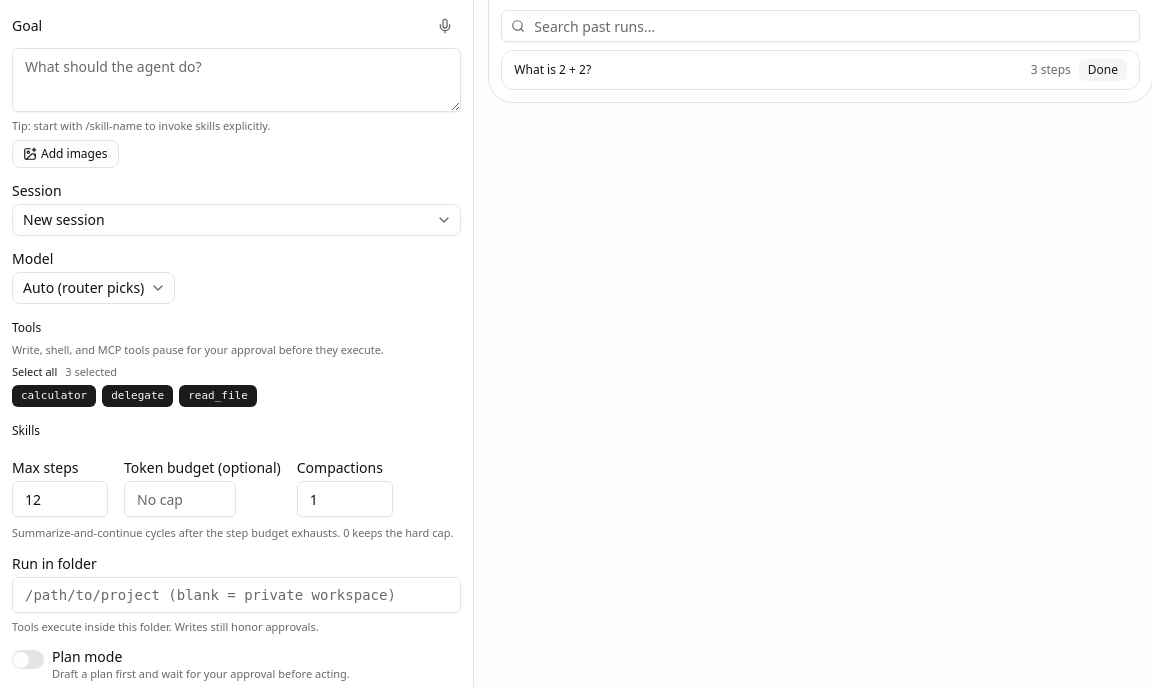
Scenario: opens a PR from the run detail and shows the link
Click the button "What is 2 + 2? 3 steps Done" at (553, 70), box top-left (501, 50), bottom-right (1140, 90)
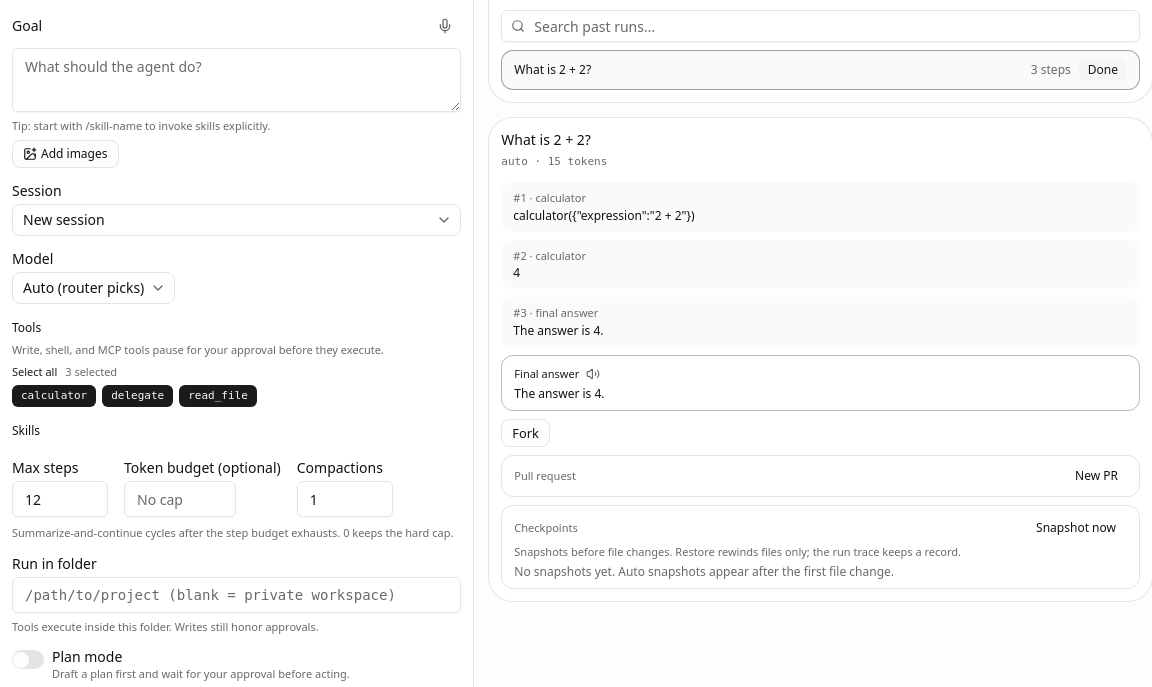
Click the button "New PR" at (1096, 476), box top-left (1066, 464), bottom-right (1127, 488)
(page scrolled)
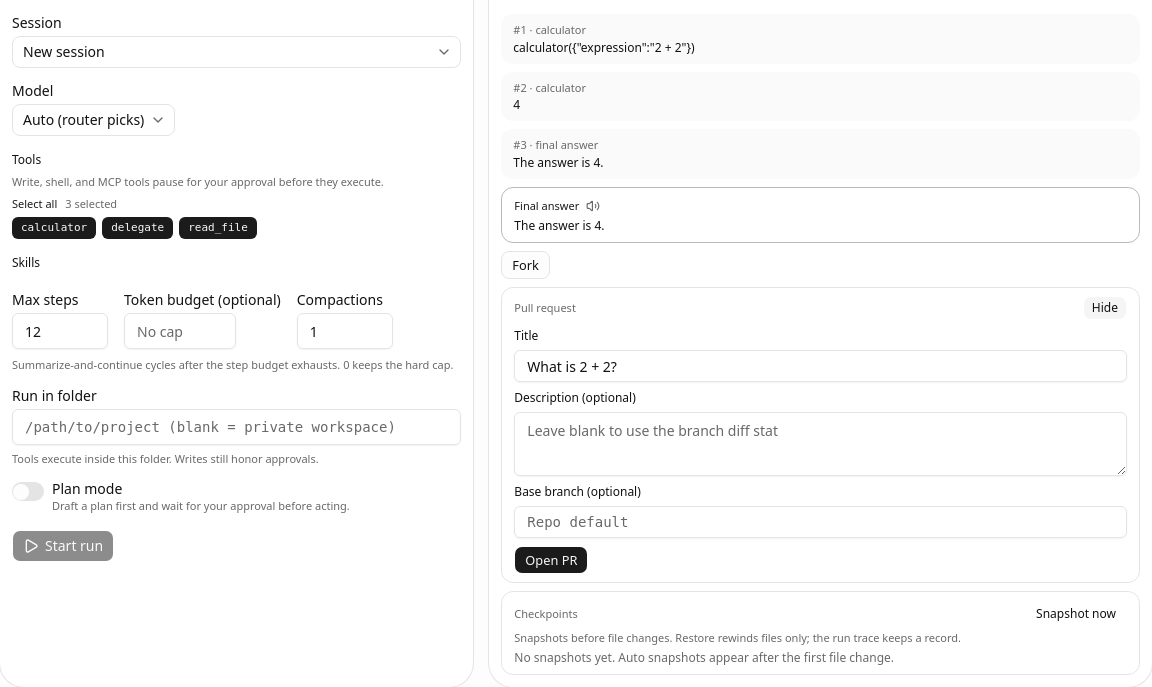
Check: the field with id "run-pr-title" holds "What is 2 + 2?", box top-left (514, 350), bottom-right (1127, 382)
Click the button "Open PR" at (551, 560), box top-left (514, 546), bottom-right (588, 574)
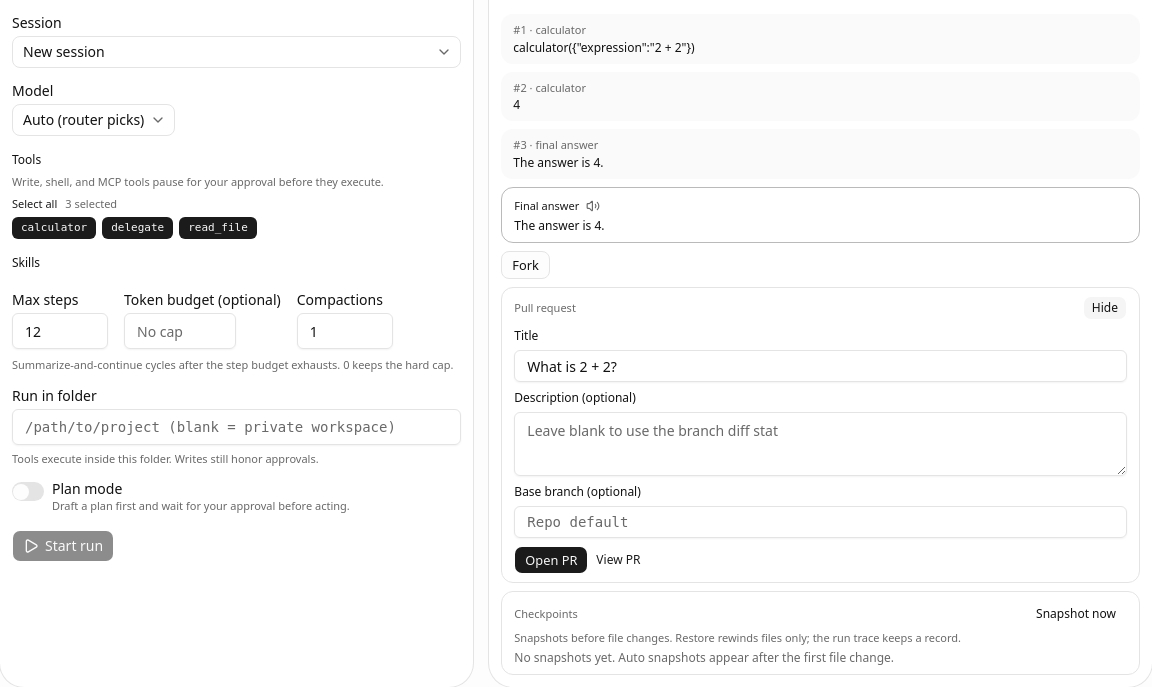
Check: the link to "https://github.com/test/repo/pull/1" reads "View PR", box top-left (596, 552), bottom-right (640, 568)
